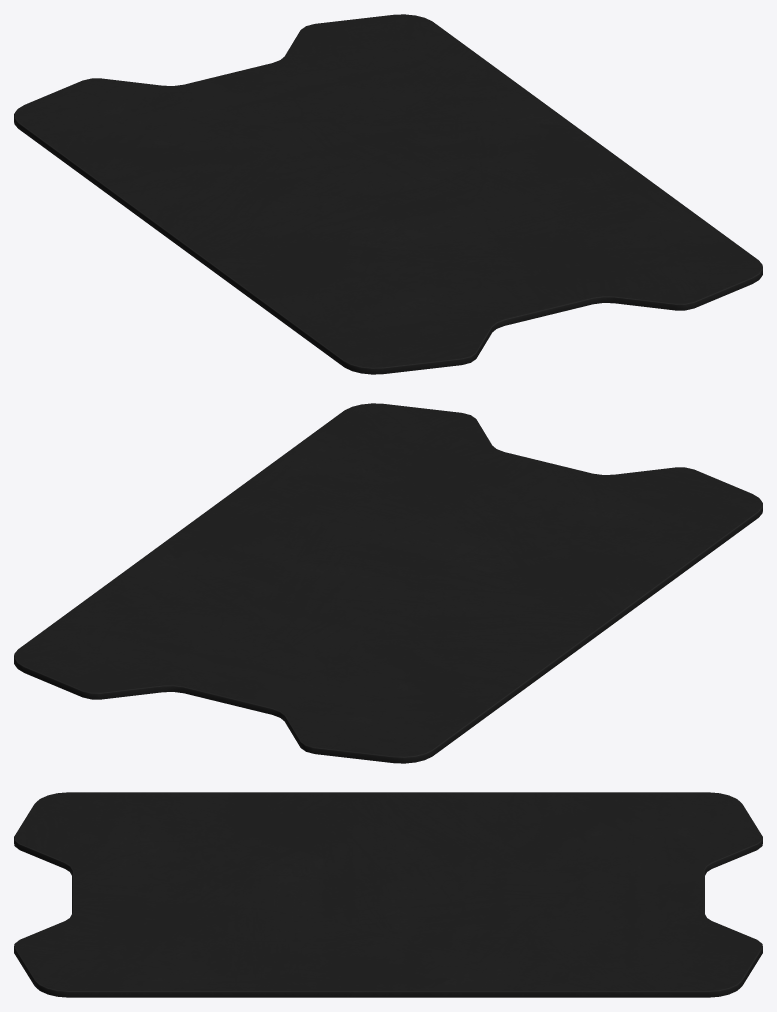
The model's file is Otto1500_PlatformA.fbx.
3 renders of one model, top to bottom at view 1: azimuth 30°, elevation 25°; view 2: azimuth 150°, elevation 25°; view 3: azimuth 270°, elevation 25°, orthographic.
Parts seen in each view (by area): view 1: Otto1500_Platform_A; view 2: Otto1500_Platform_A; view 3: Otto1500_Platform_A.
Part boxes in pixels (bbox=[...]): Otto1500_Platform_A: bbox=[14, 14, 762, 374]; Otto1500_Platform_A: bbox=[14, 403, 762, 763]; Otto1500_Platform_A: bbox=[14, 792, 762, 997].
Bounding box in the file's own units: 153 × 96.27 × 1.5.
1 material, 1 textured.
